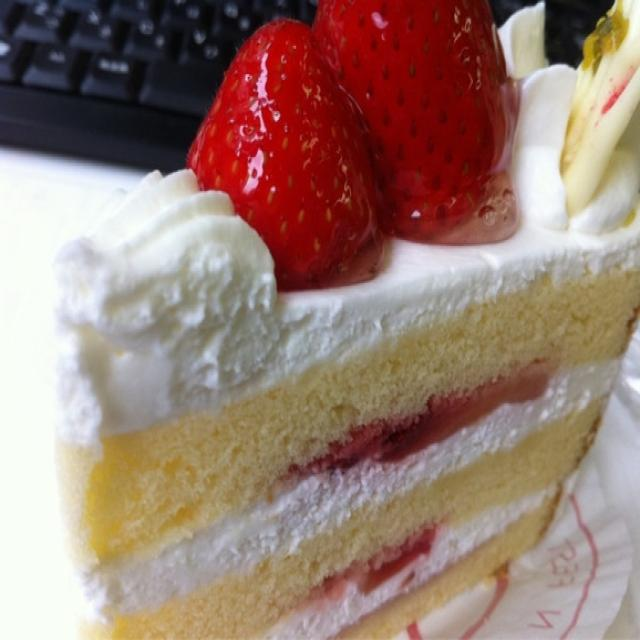汤锅炖物: (323, 61, 640, 403)
蔬菜料理: (28, 313, 184, 537)
